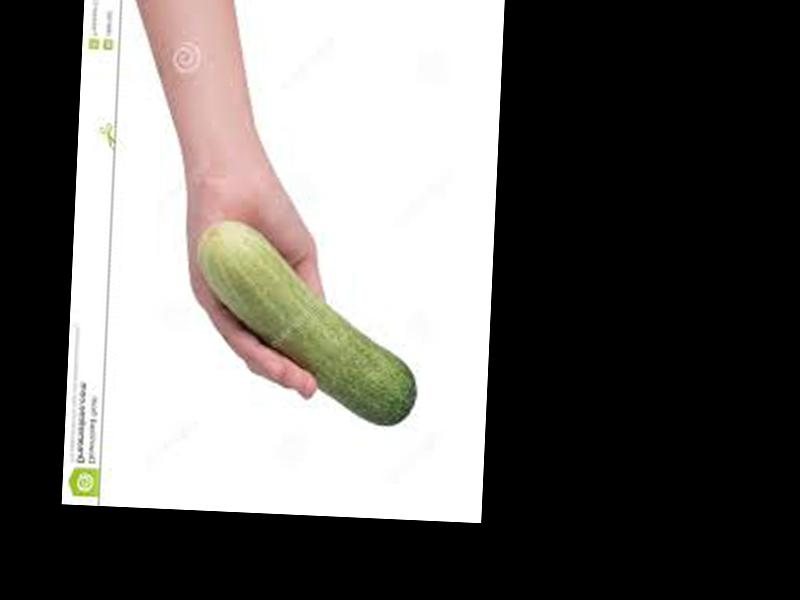Cucumber: (192, 219, 422, 424)
